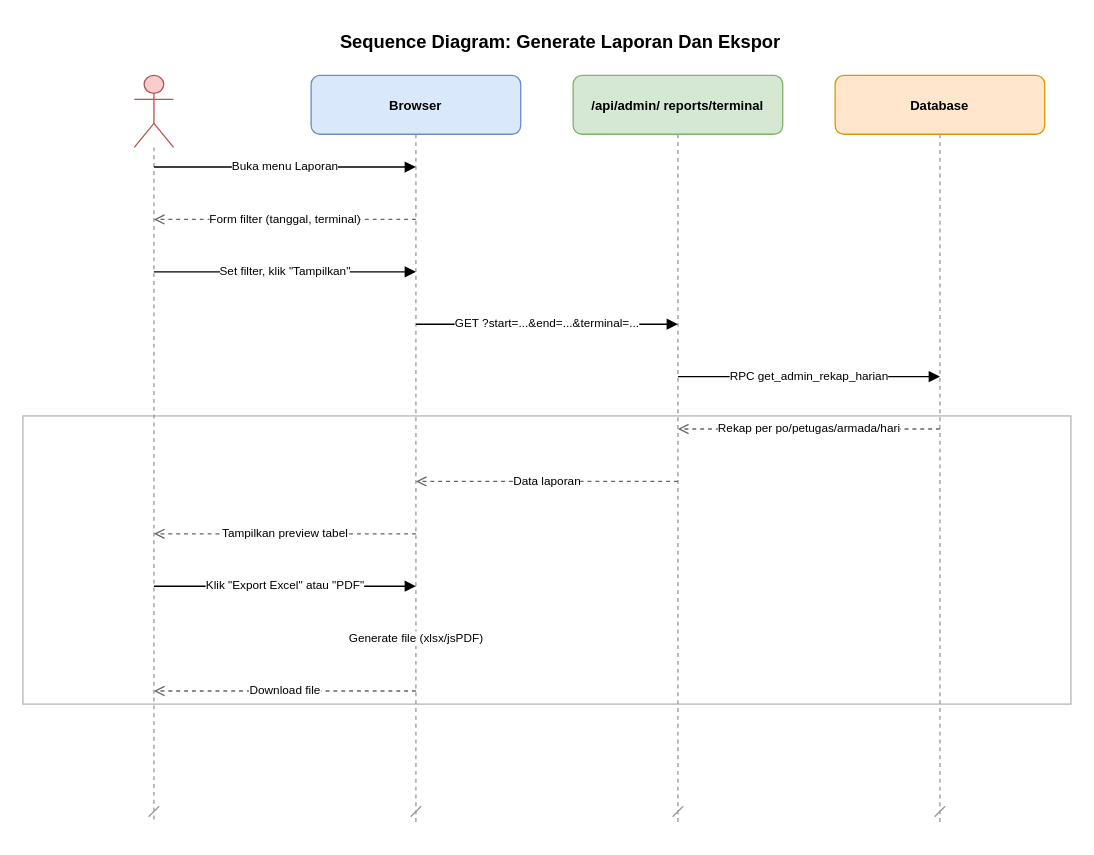
Image size: 1094x855. Some labels were removed from this diagram. The box of each missing label's shape, as (x1, y1, x2, y2) in pixels:
Admin/Staf IW: (133, 74, 174, 147)
opt: Data tersedia: (22, 415, 1071, 704)
